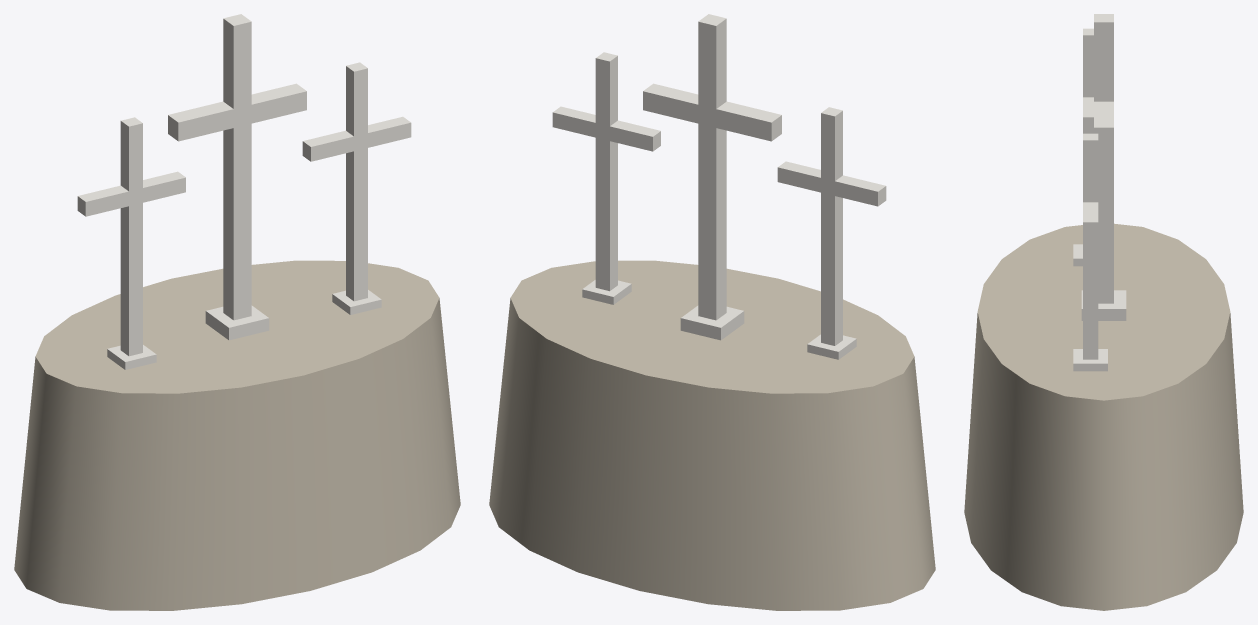
File: tres_cruces.fbx
3 views of the same model, side by side, from view 1: azimuth 30°, elevation 25°; view 2: azimuth 150°, elevation 25°; view 3: azimuth 270°, elevation 25° (orthographic). The views are drawn at different scales.
Visible parts, largest first — view 1: stone, white_04, white, white_07, white_05, white_08, white_02, white_06, white_03, white_09; view 2: stone, white_04, white_07, white, white_05, white_08, white_02, white_06, white_03, white_09; view 3: stone, white_04, white_07, white_05, white, white_06, white_09, white_08, white_02.
Boxes of the visible parts, x1,y1,x2,y2 form: stone: (14, 260, 460, 610); white_04: (223, 14, 251, 320); white: (120, 117, 142, 356); white_07: (346, 62, 367, 301); white_05: (168, 83, 306, 141); white_08: (302, 116, 411, 161); white_02: (77, 171, 185, 216); white_06: (205, 305, 269, 340); white_03: (107, 345, 156, 369); white_09: (332, 290, 381, 314); stone: (489, 260, 935, 610); white_04: (698, 14, 726, 320); white_07: (595, 52, 617, 291); white: (821, 107, 842, 345); white_05: (643, 83, 781, 141); white_08: (552, 106, 660, 151); white_02: (777, 161, 886, 206); white_06: (680, 305, 744, 340); white_03: (807, 334, 856, 359); white_09: (582, 280, 631, 304); stone: (964, 223, 1243, 610); white_04: (1094, 14, 1113, 303); white_07: (1083, 133, 1098, 359); white_05: (1094, 101, 1113, 145); white: (1083, 28, 1093, 133); white_06: (1081, 290, 1126, 320); white_09: (1073, 349, 1107, 371); white_08: (1083, 202, 1098, 236); white_02: (1083, 97, 1093, 131).
Size of the model in its own units: 21 by 24.6 by 12.6.
